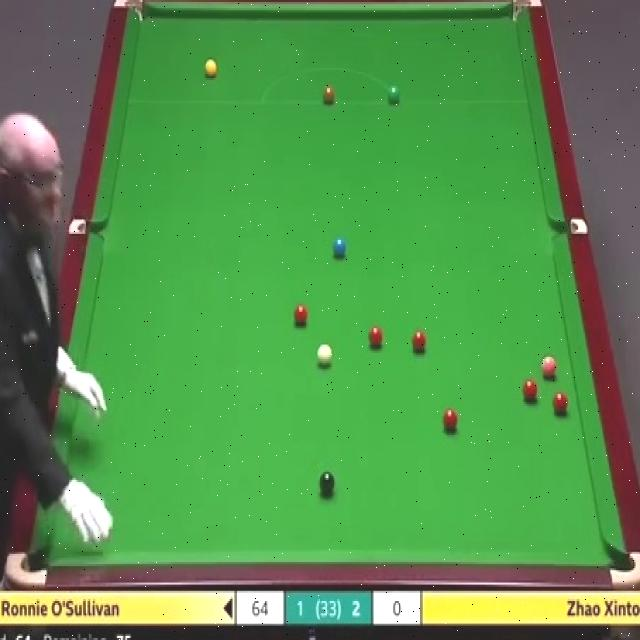black-ball: (319, 469, 335, 494)
blue-ball: (333, 237, 346, 260)
brown-ball: (323, 87, 335, 105)
green-ball: (388, 85, 400, 104)
pink-ball: (541, 353, 558, 380)
red-ball: (441, 407, 458, 433), (412, 327, 428, 353), (522, 379, 538, 401), (554, 393, 568, 416), (368, 325, 382, 348), (295, 304, 307, 328)
white-ball: (314, 342, 334, 371)
yellow-ball: (204, 59, 218, 81)
